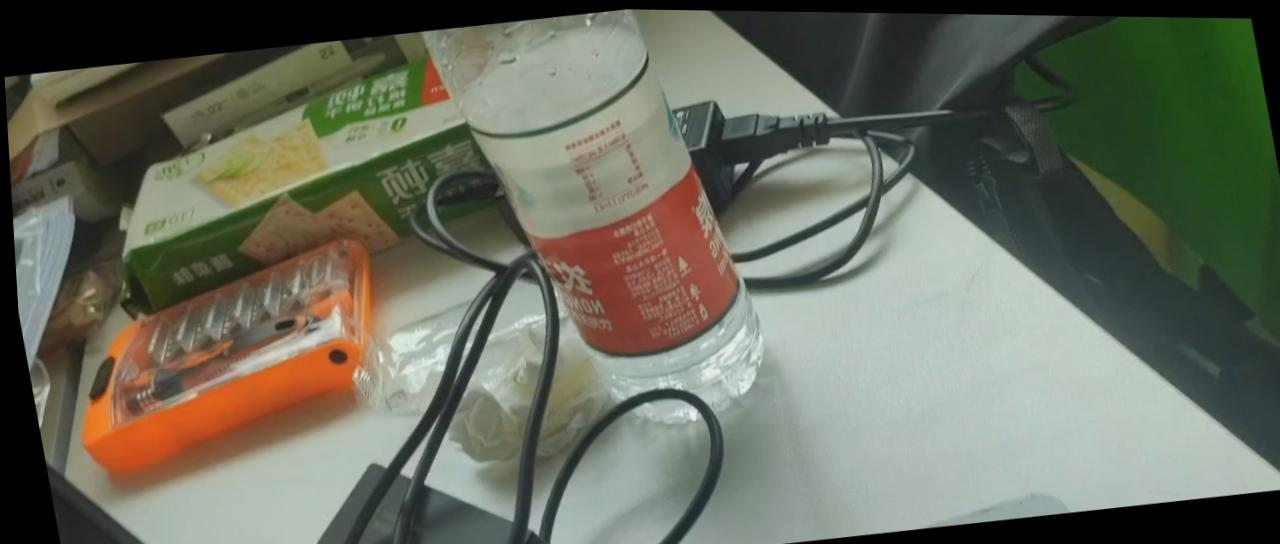plastic: (416, 13, 762, 427)
